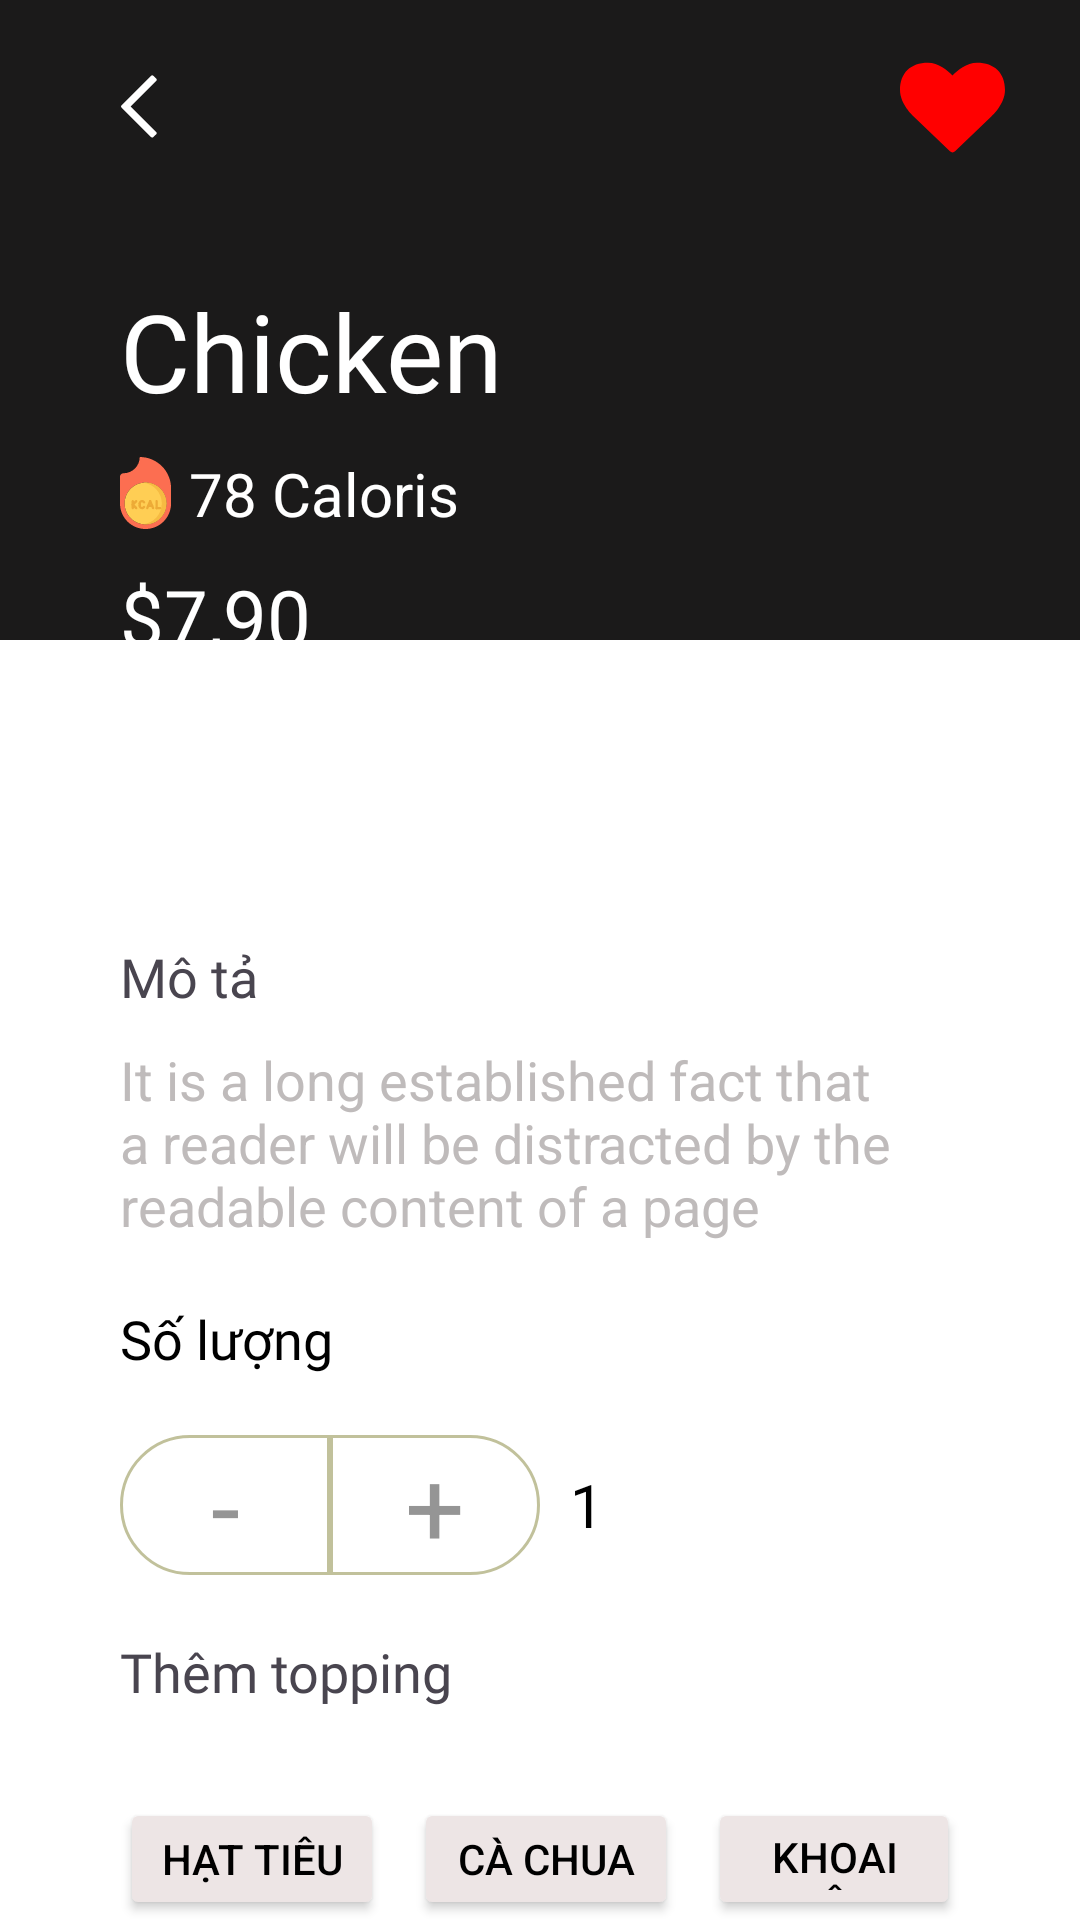

Icon click points for this 1080w x 1920h phone screenshot, format point (x, y):
backwhite: point (139, 106)
loved: point (952, 107)
